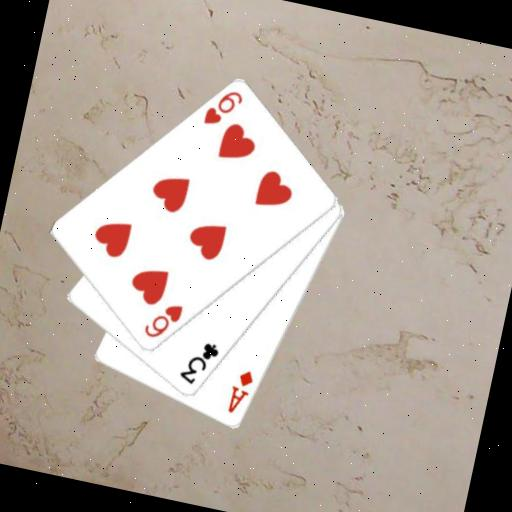3C: (174, 335, 222, 391)
6H: (199, 82, 246, 133), (139, 296, 185, 345)
AD: (223, 365, 257, 418)
